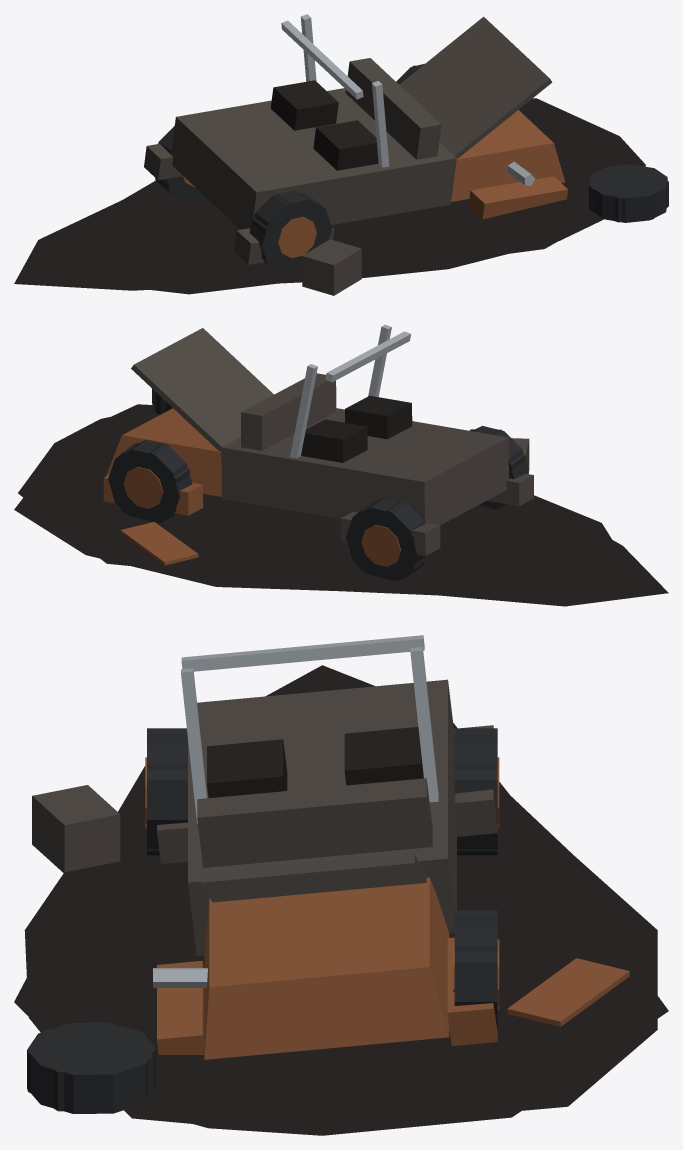
File: neutral_wreck_light_vehicle.glb
3 views of the same model, one above another, from view 1: azimuth 30°, elevation 25°; view 2: azimuth 150°, elevation 25°; view 3: azimuth 270°, elevation 25° (orthographic). The views are drawn at different scales.
Visible parts, largest first — view 1: hull, scorch (×2), wheels (×3), rollbar, debris; view 2: scorch (×2), hull, wheels (×3), rollbar, debris; view 3: scorch (×2), hull, wheels (×3), debris, rollbar.
Boxes of the visible parts, x1,y1,x2,y2 form: hull: [144, 16, 567, 264]; scorch (×2): [14, 98, 645, 294]; wheels (×3): [155, 63, 668, 272]; rollbar: [281, 14, 389, 167]; debris: [302, 239, 361, 295]; scorch (×2): [14, 404, 668, 606]; hull: [103, 328, 534, 556]; wheels (×3): [108, 389, 528, 581]; rollbar: [290, 324, 411, 458]; debris: [120, 438, 529, 565]; scorch (×2): [14, 665, 668, 1135]; hull: [157, 679, 497, 1059]; wheels (×3): [27, 728, 499, 1113]; debris: [32, 785, 629, 1026]; rollbar: [181, 635, 438, 823].
Bounding box in the file's own units: 7.24 × 2.05 × 4.26.
